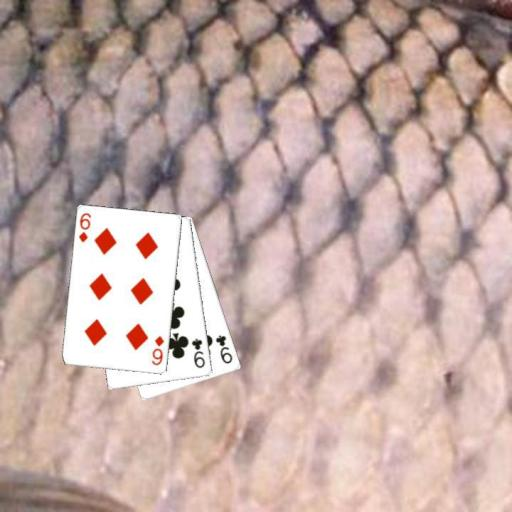6D: (149, 333, 166, 367), (76, 210, 93, 244)
9C: (213, 332, 234, 366), (188, 335, 207, 370)
